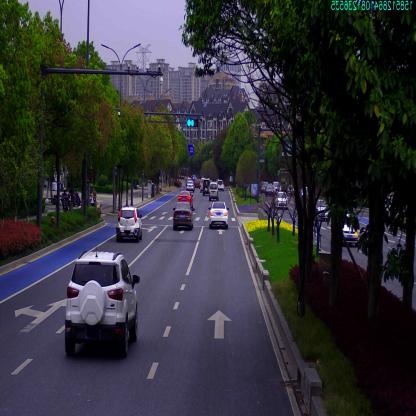traffic-light: (186, 119, 200, 128)
